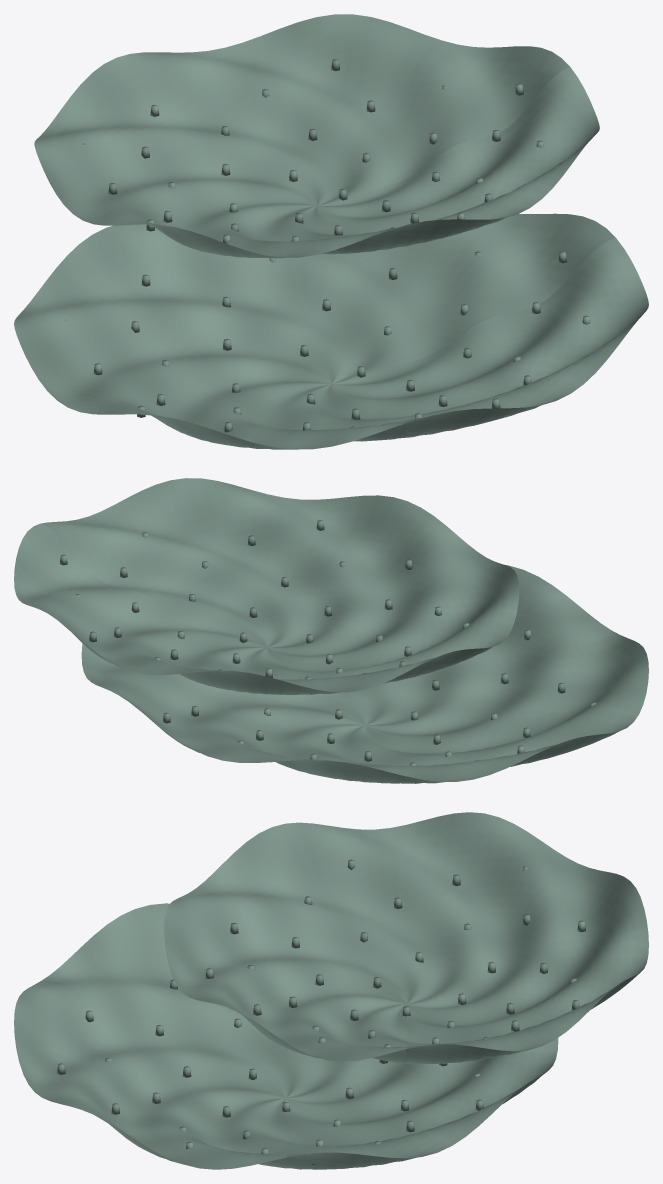
The model's file is chalice-desktop.glb.
3 views of the same model, one above another, from view 1: azimuth 30°, elevation 25°; view 2: azimuth 150°, elevation 25°; view 3: azimuth 270°, elevation 25° (orthographic). The views are drawn at different scales.
Visible parts, largest first — view 1: foliate-plate, surface-corallite; view 2: foliate-plate, surface-corallite; view 3: foliate-plate, surface-corallite.
Boxes of the visible parts, left/top/right/bottom form: foliate-plate: left=14, top=14, right=648, bottom=449; surface-corallite: left=64, top=59, right=590, bottom=432; foliate-plate: left=14, top=478, right=648, bottom=783; surface-corallite: left=59, top=520, right=596, bottom=765; foliate-plate: left=14, top=812, right=648, bottom=1169; surface-corallite: left=57, top=859, right=585, bottom=1164.
Size of the model in its own units: 0.659 by 0.2175 by 0.6419.
